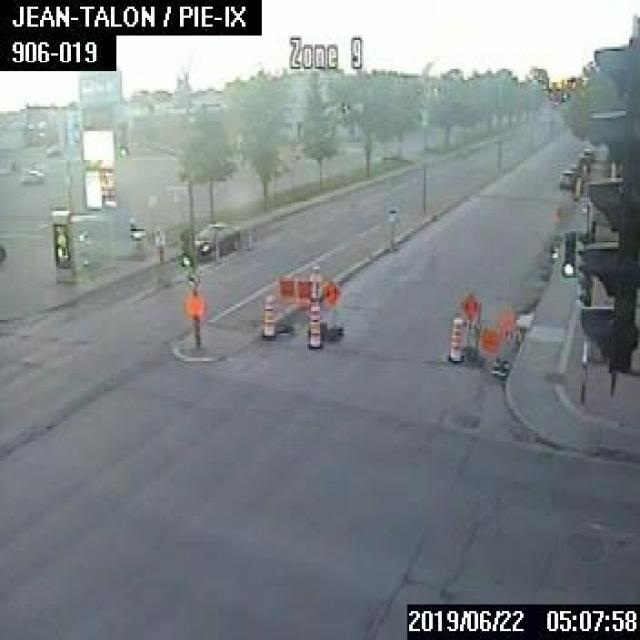construction: (270, 265, 344, 339), (460, 291, 520, 372), (306, 300, 320, 348), (447, 317, 462, 360), (259, 293, 274, 336)
vehicle: (193, 218, 242, 258), (558, 170, 576, 188), (20, 169, 42, 183), (0, 242, 4, 260)
